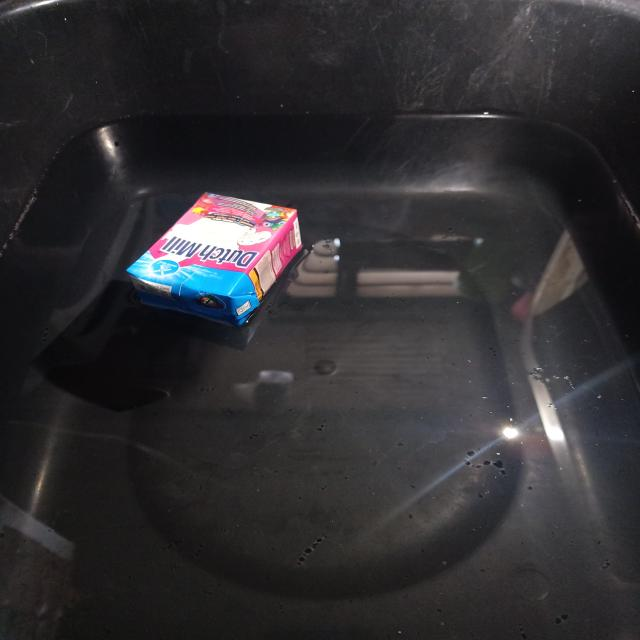Cardboard Box: (126, 193, 302, 326)
